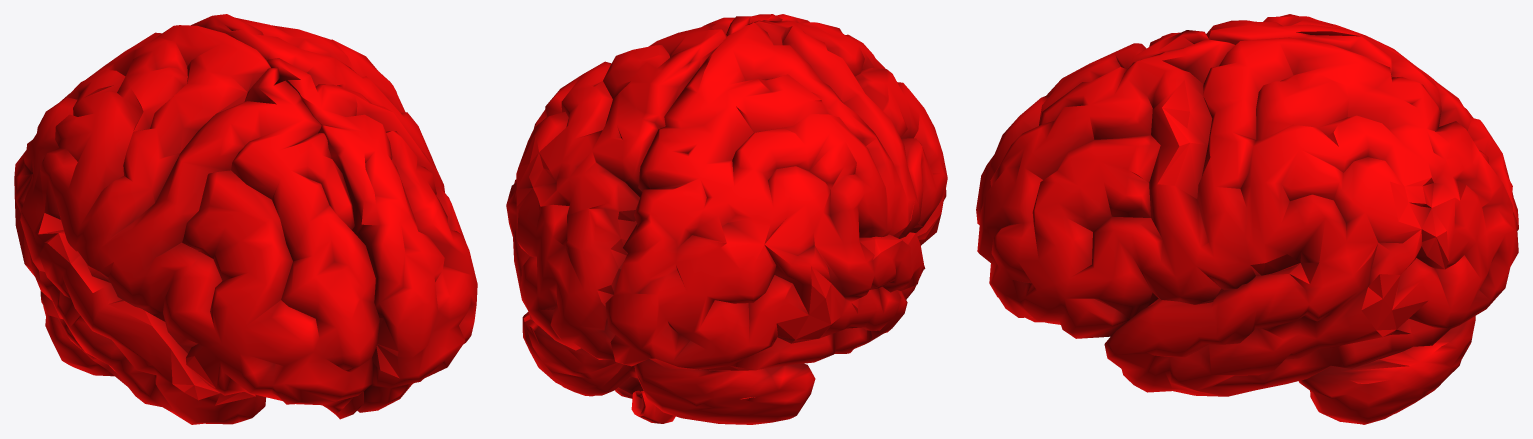
File: AnimalParts_BrokenBrain.fbx
3 views of the same model, side by side, from view 1: azimuth 30°, elevation 25°; view 2: azimuth 150°, elevation 25°; view 3: azimuth 270°, elevation 25° (orthographic). The views are drawn at different scales.
Visible parts, largest first — view 1: BrokenBrain; view 2: BrokenBrain; view 3: BrokenBrain.
Part boxes in pixels (left/top/right/bottom): BrokenBrain: left=14, top=14, right=477, bottom=424; BrokenBrain: left=506, top=14, right=947, bottom=424; BrokenBrain: left=976, top=14, right=1518, bottom=424.
Bounding box in the file's own units: 125 × 117 × 163.
